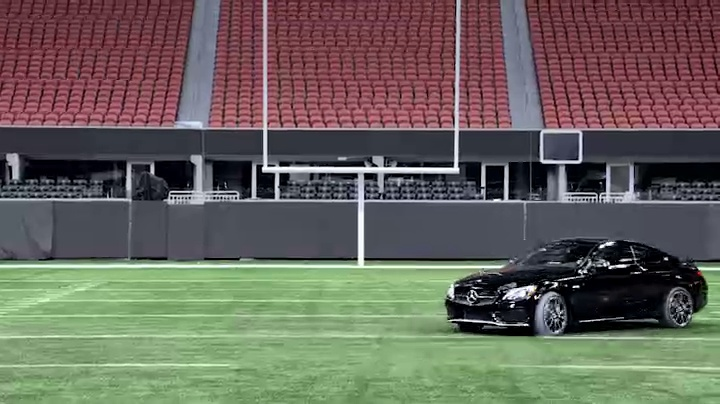amg: (442, 234, 710, 339)
